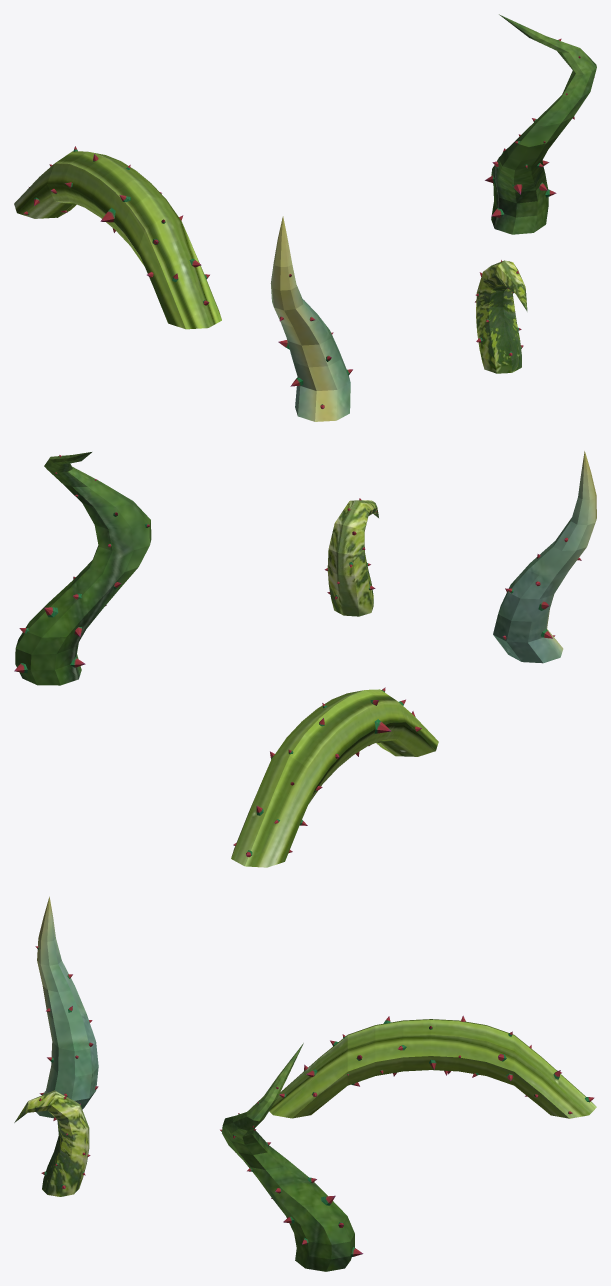
File: Vinhas.obj
3 views of the same model, one above another, from view 1: azimuth 30°, elevation 25°; view 2: azimuth 150°, elevation 25°; view 3: azimuth 270°, elevation 25° (orthographic). The views are drawn at different scales.
Parts seen in each view (by area): view 1: Vinha_espinhenta_-_Arco, Vinha_circular_Vinha_Circular, Vinha_espinhenta_-_Ereta_Vinha_espinhenta_-_Dobrada.001, Vinha_espinhenta_-_Dobrada; view 2: Vinha_espinhenta_-_Arco, Vinha_circular_Vinha_Circular, Vinha_espinhenta_-_Ereta_Vinha_espinhenta_-_Dobrada.001, Vinha_espinhenta_-_Dobrada; view 3: Vinha_espinhenta_-_Arco, Vinha_circular_Vinha_Circular, Vinha_espinhenta_-_Ereta_Vinha_espinhenta_-_Dobrada.001, Vinha_espinhenta_-_Dobrada.
Part boxes in pixels (left/top/right/bottom): Vinha_espinhenta_-_Arco: left=14, top=146, right=221, bottom=329; Vinha_circular_Vinha_Circular: left=485, top=14, right=596, bottom=234; Vinha_espinhenta_-_Ereta_Vinha_espinhenta_-_Dobrada.001: left=270, top=216, right=352, bottom=421; Vinha_espinhenta_-_Dobrada: left=475, top=260, right=527, bottom=373; Vinha_espinhenta_-_Arco: left=231, top=687, right=438, bottom=867; Vinha_circular_Vinha_Circular: left=14, top=452, right=151, bottom=685; Vinha_espinhenta_-_Ereta_Vinha_espinhenta_-_Dobrada.001: left=493, top=451, right=596, bottom=663; Vinha_espinhenta_-_Dobrada: left=324, top=498, right=378, bottom=616; Vinha_espinhenta_-_Arco: left=269, top=1015, right=596, bottom=1118; Vinha_circular_Vinha_Circular: left=220, top=1043, right=363, bottom=1271; Vinha_espinhenta_-_Ereta_Vinha_espinhenta_-_Dobrada.001: left=35, top=896, right=98, bottom=1118; Vinha_espinhenta_-_Dobrada: left=14, top=1090, right=90, bottom=1196.
Size of the model in its own units: 5.59 by 2.72 by 7.01.
